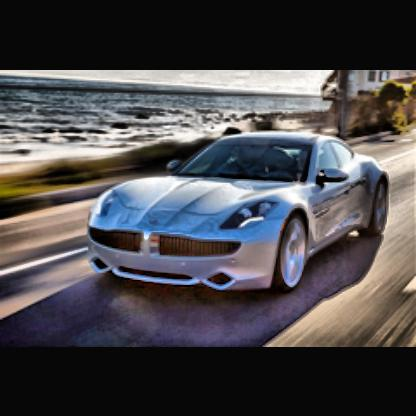Fisker Karma Sedan 2012: (86, 132, 394, 294)
